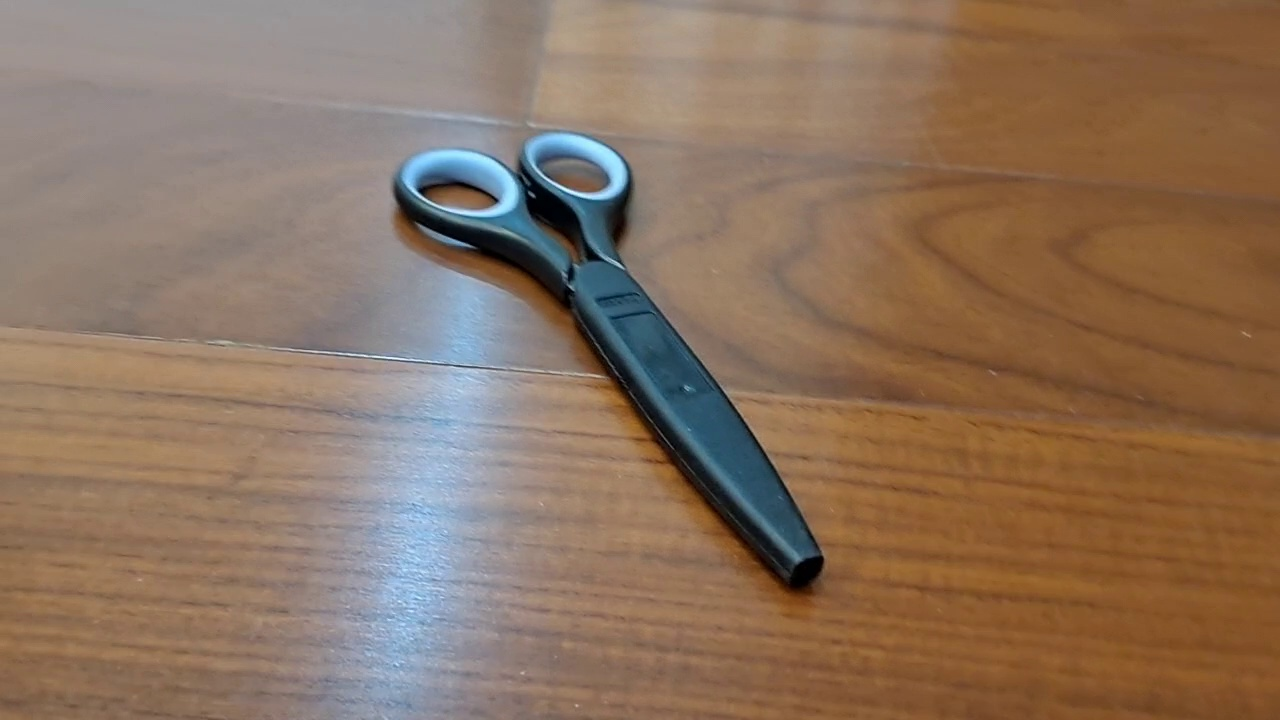scissors: (391, 130, 825, 592)
